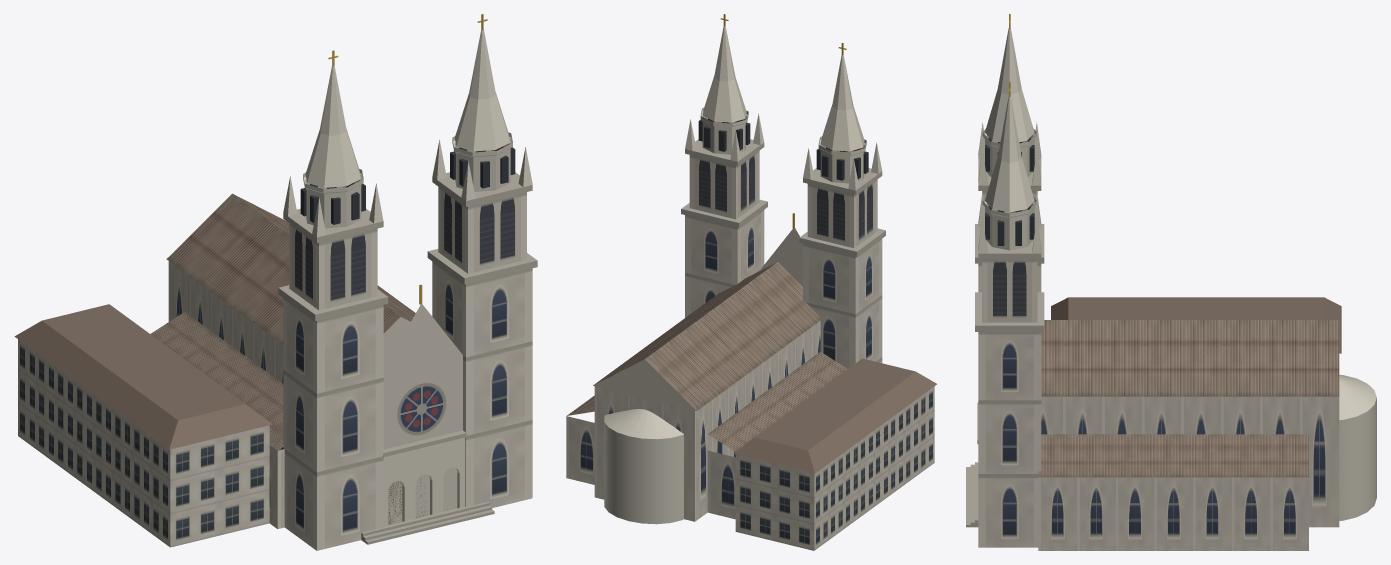
The model's file is sts_peter_and_paul.glb.
3 views of the same model, side by side, from view 1: azimuth 30°, elevation 25°; view 2: azimuth 150°, elevation 25°; view 3: azimuth 270°, elevation 25° (orthographic). The views are drawn at different scales.
Parts seen in each view (by area): view 1: sts_peter_and_paul; view 2: sts_peter_and_paul; view 3: sts_peter_and_paul.
Part boxes in pixels (left/top/right/bottom): sts_peter_and_paul: left=14, top=14, right=537, bottom=550; sts_peter_and_paul: left=566, top=14, right=936, bottom=550; sts_peter_and_paul: left=966, top=14, right=1376, bottom=550.
Size of the model in its own units: 42 by 58 by 48.
Materials: 2 (2 with a texture image).
